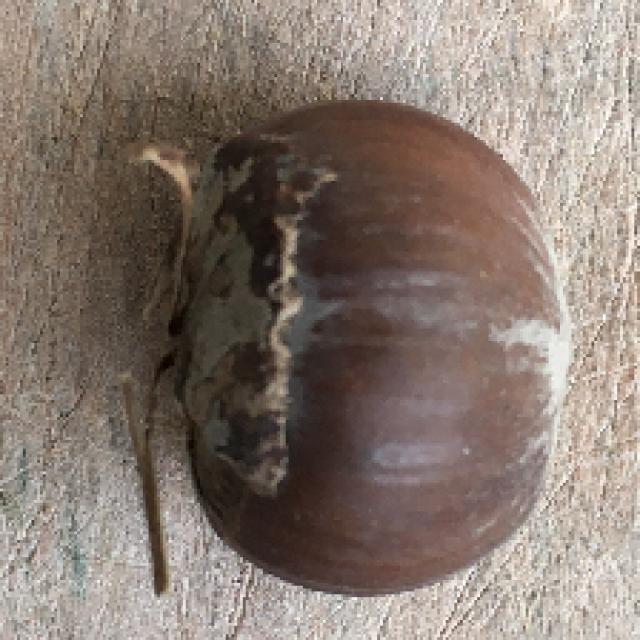damagedHazelnut: (136, 101, 570, 595)
